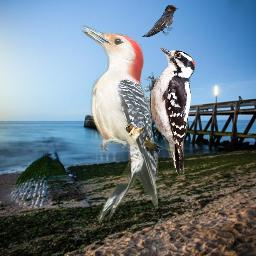Swallow: (124, 123, 162, 156), (142, 5, 179, 37)
Woodpecker: (78, 25, 158, 224), (144, 46, 196, 178)
